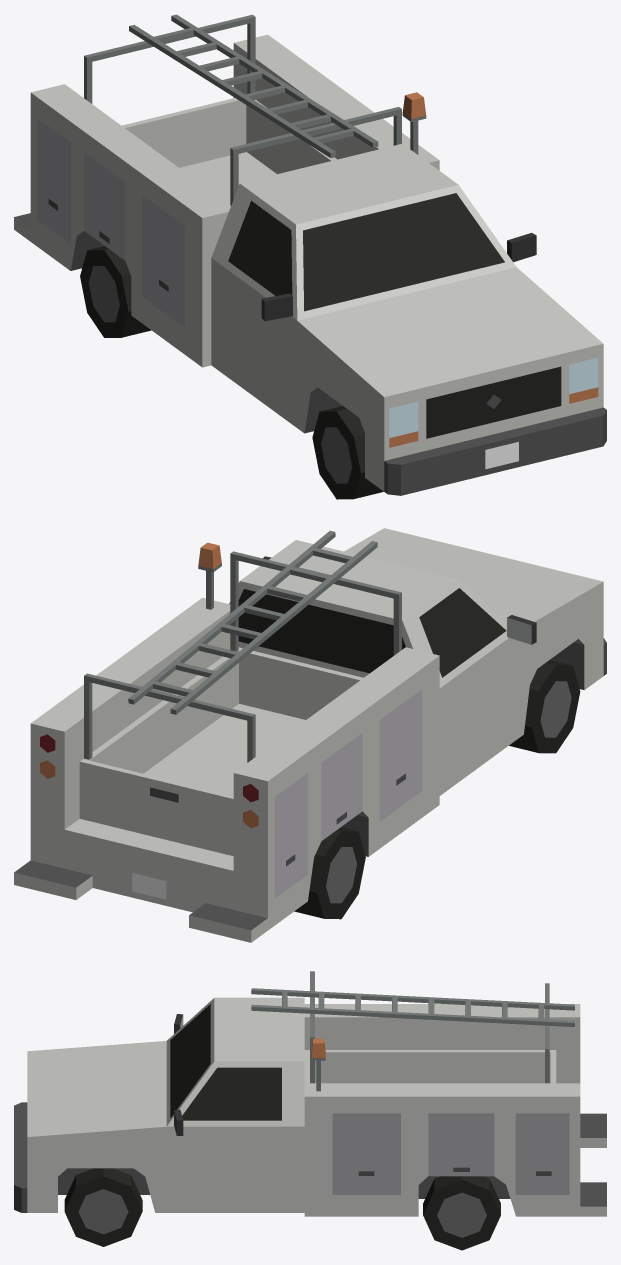
File: Veh_Utility_Truck.obj
3 views of the same model, one above another, from view 1: azimuth 30°, elevation 25°; view 2: azimuth 150°, elevation 25°; view 3: azimuth 270°, elevation 25° (orthographic). The views are drawn at different scales.
Size of the model in its own units: 1.46 by 1.32 by 3.44.
